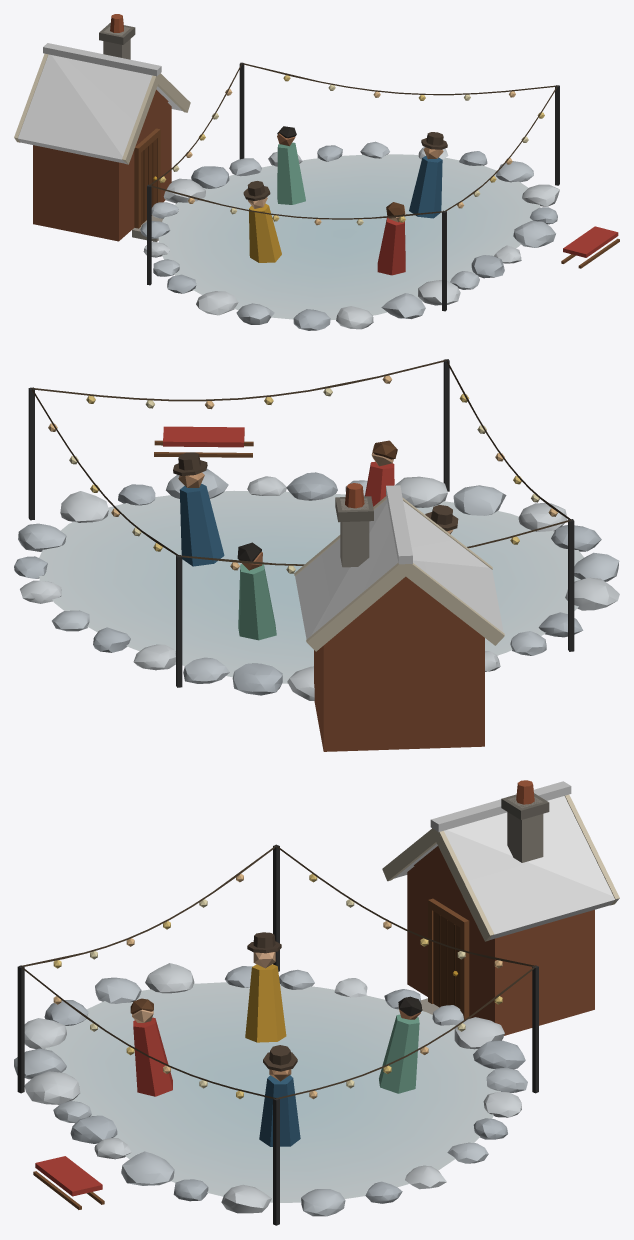
File: skating_pond.glb
3 views of the same model, one above another, from view 1: azimuth 30°, elevation 25°; view 2: azimuth 150°, elevation 25°; view 3: azimuth 270°, elevation 25° (orthographic). The views are drawn at different scales.
Visible parts, largest first — view 1: town-skating_pond; view 2: town-skating_pond; view 3: town-skating_pond.
Part boxes in pixels (<box>): town-skating_pond: <box>14,14,619,330</box>; town-skating_pond: <box>14,359,619,751</box>; town-skating_pond: <box>14,780,619,1225</box>.
Size of the model in its own units: 7.69 by 3.04 by 7.01.
